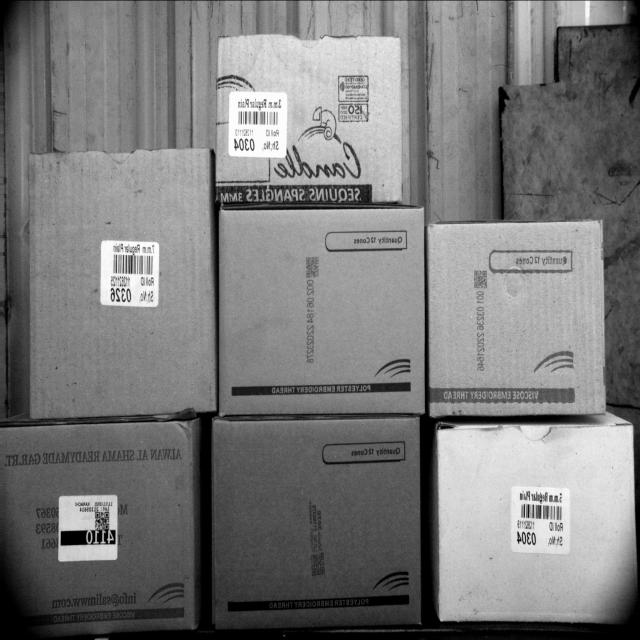cardboxes: (33, 140, 214, 419), (214, 409, 422, 639), (432, 415, 639, 630), (214, 208, 422, 414), (0, 417, 192, 640), (428, 211, 608, 422), (218, 35, 398, 207)
